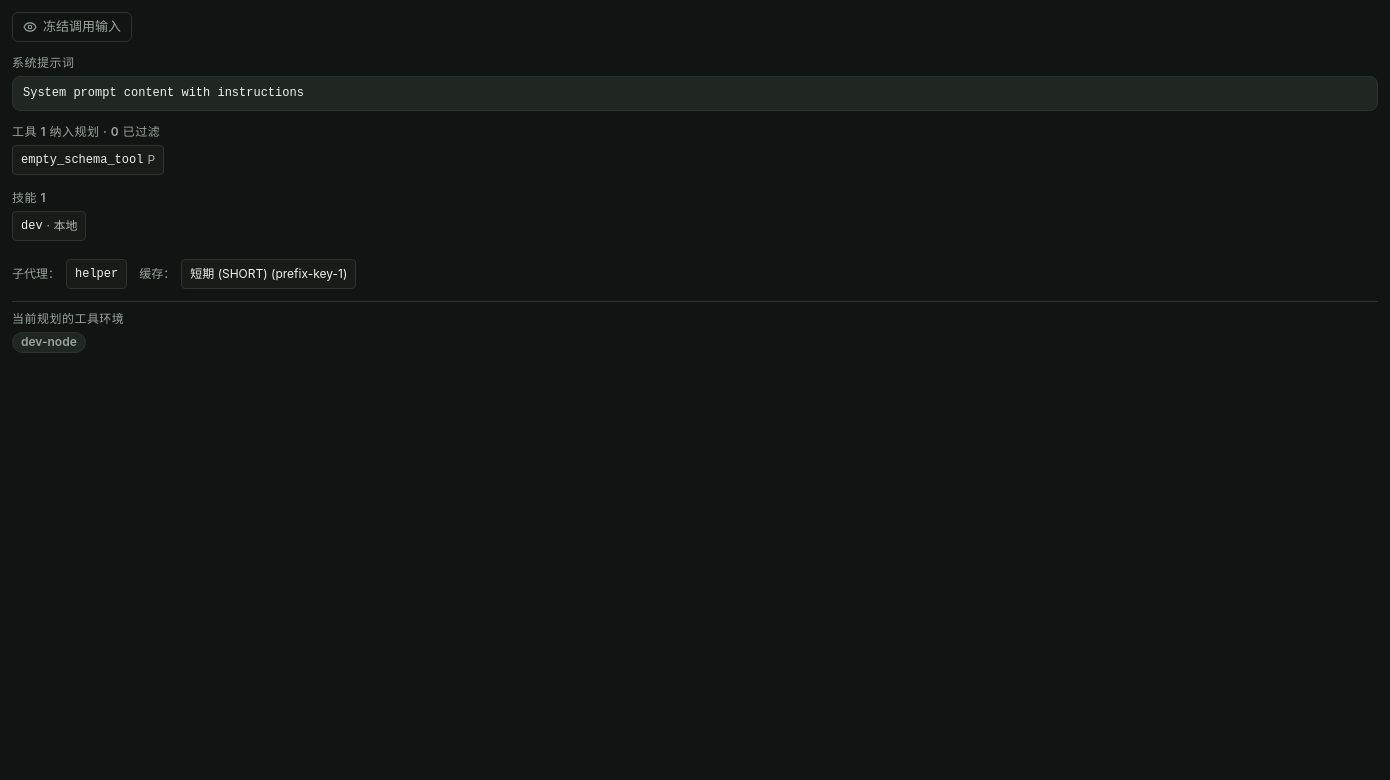
ThreadModelRequestDebug & Inspector › handles empty inputSchemaJson in tool inspector and ignores Escape when isComposing
Click the button with aria-label "工具 empty_schema_tool". click: point(88, 160)
box: x1=12 y1=145 x2=164 y2=175
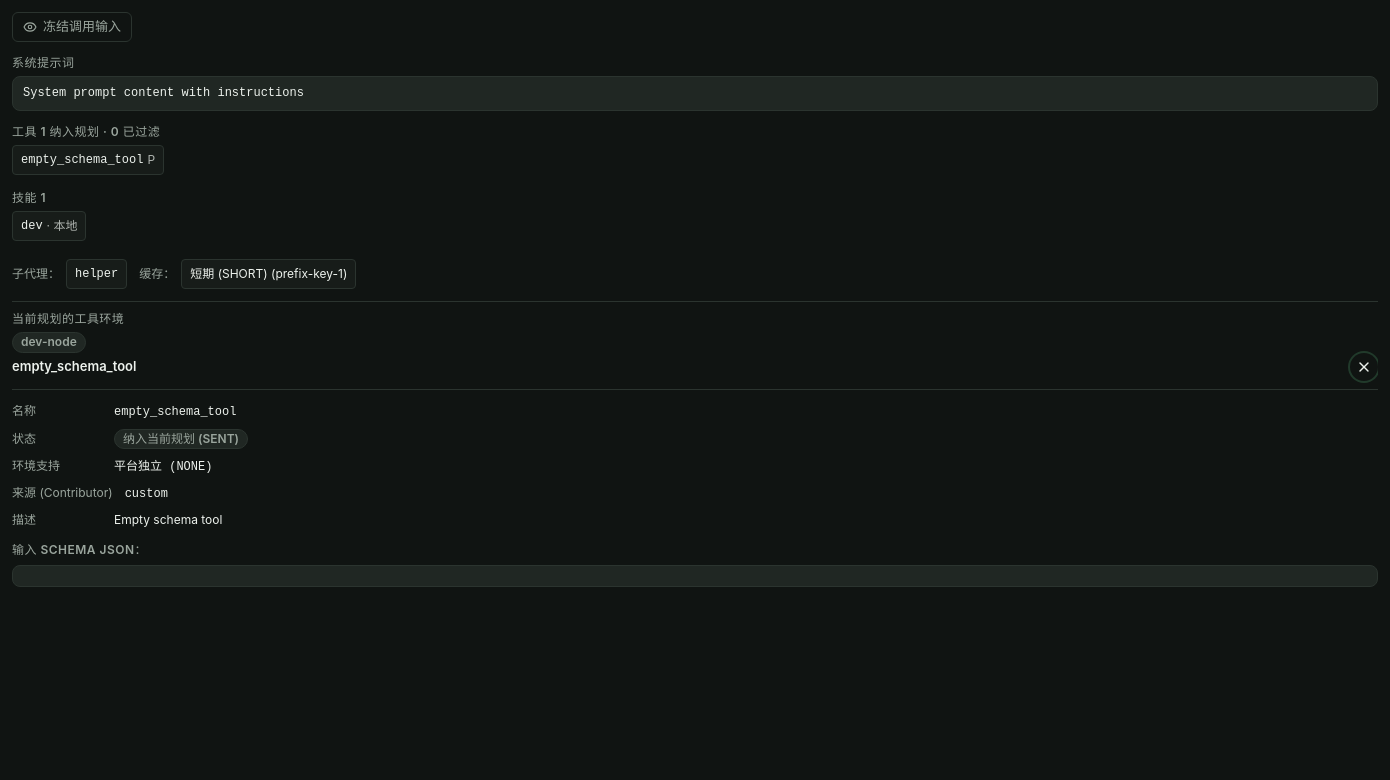
Expected: the element with test id "thread-debug-inspector" is shown
# 验证 isComposing 状态下按 Escape 不关闭 inspector
Press Escape in the element with test id "thread-debug-inspector", box x1=12 y1=353 x2=1378 y2=587
Expected: the element with test id "thread-debug-inspector" is shown, x1=12 y1=353 x2=1378 y2=587
# 正常按 Escape 关闭
Press Escape
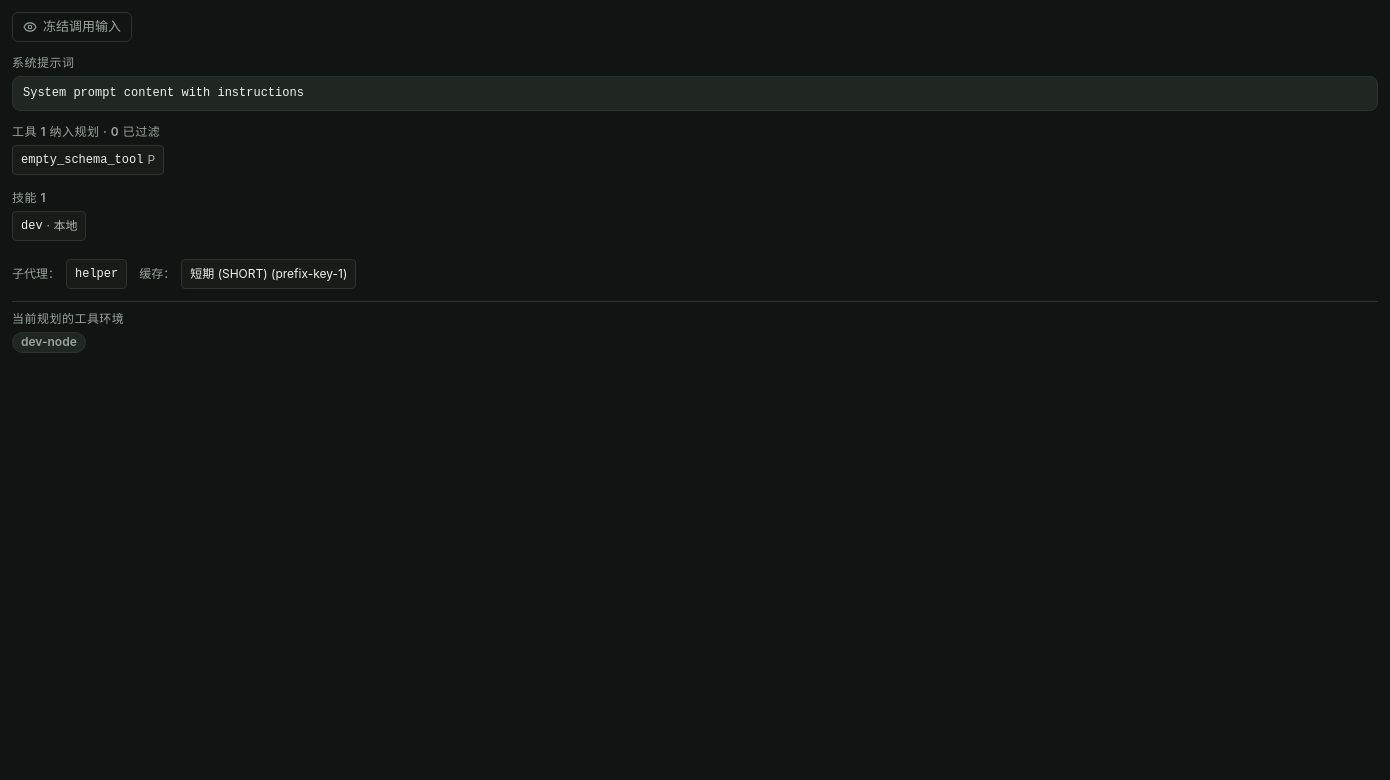
Expected: the element with test id "thread-debug-inspector" is gone
